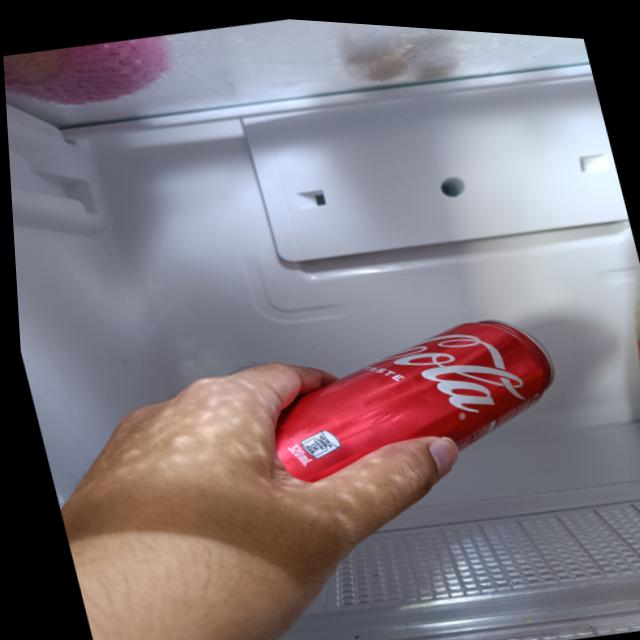coke: (212, 288, 574, 516)
